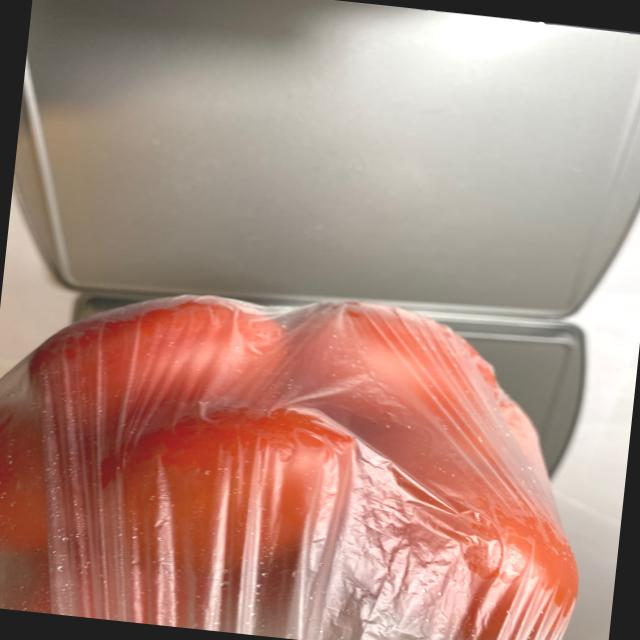tomato: (0, 267, 602, 640)
